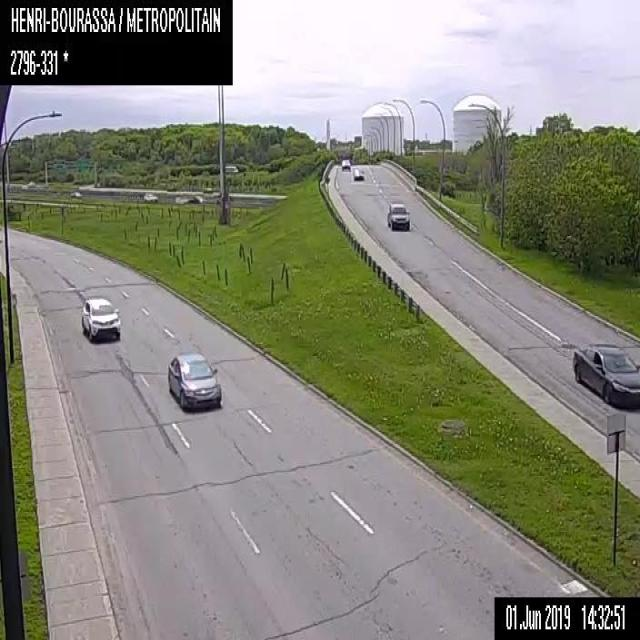vehicle: (571, 342, 639, 407), (167, 352, 221, 409), (80, 297, 120, 339), (386, 200, 408, 229), (352, 165, 363, 180), (143, 192, 157, 200), (340, 158, 350, 169)
